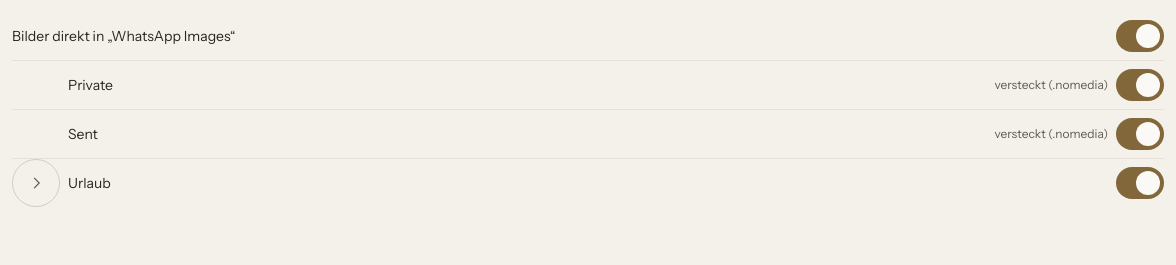
Test: SubfolderPicker › lädt eine tiefere Ebene erst beim Aufklappen
Check: the text "2025" is not shown
Click the button named "„Urlaub“ aufklappen". click: (36, 183)
box: left=12, top=159, right=60, bottom=207
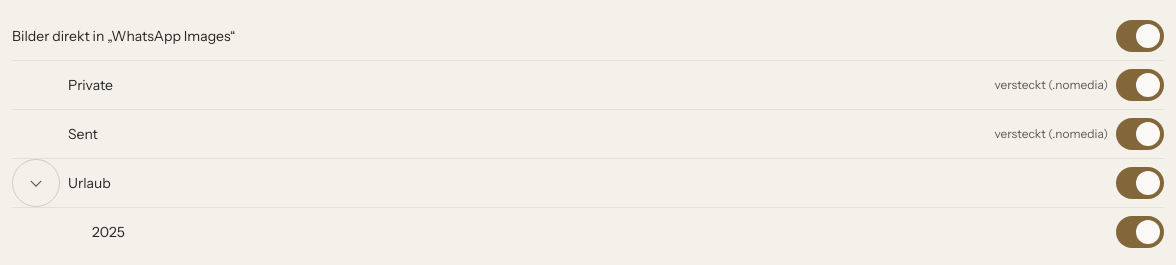
Check: the text "2025" is shown, box left=92, top=223, right=125, bottom=241
Click the button named "„Urlaub“ zuklappen". click: (36, 183)
box: left=12, top=159, right=60, bottom=207
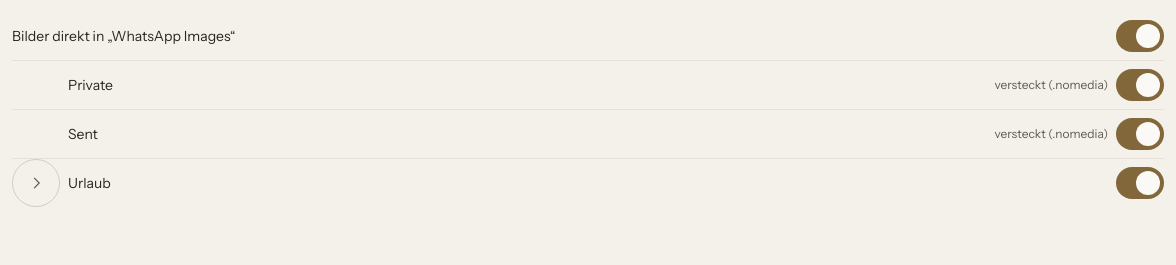
Check: the text "2025" is gone
